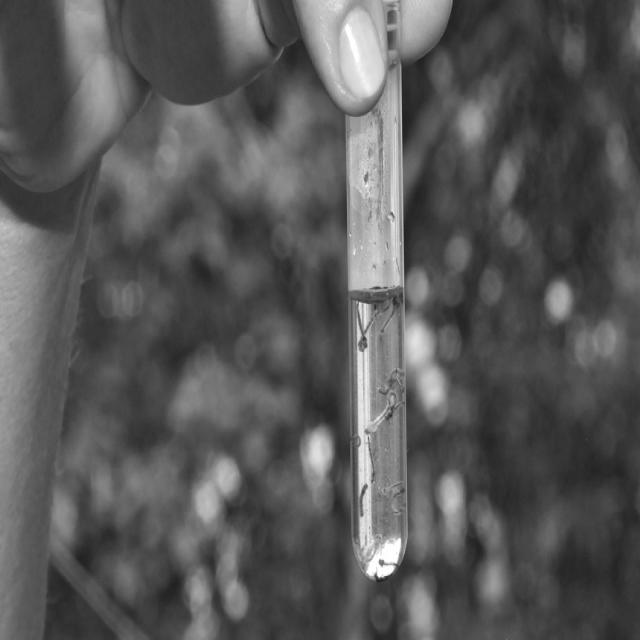larvas: (358, 308, 379, 353), (354, 305, 369, 351), (361, 537, 380, 563), (379, 308, 396, 336), (367, 438, 377, 484), (390, 486, 405, 514), (377, 478, 402, 494), (367, 413, 386, 433), (386, 392, 397, 420), (359, 482, 368, 516), (390, 375, 405, 395), (376, 558, 400, 569), (351, 431, 362, 450), (378, 379, 390, 395), (391, 366, 406, 378)
